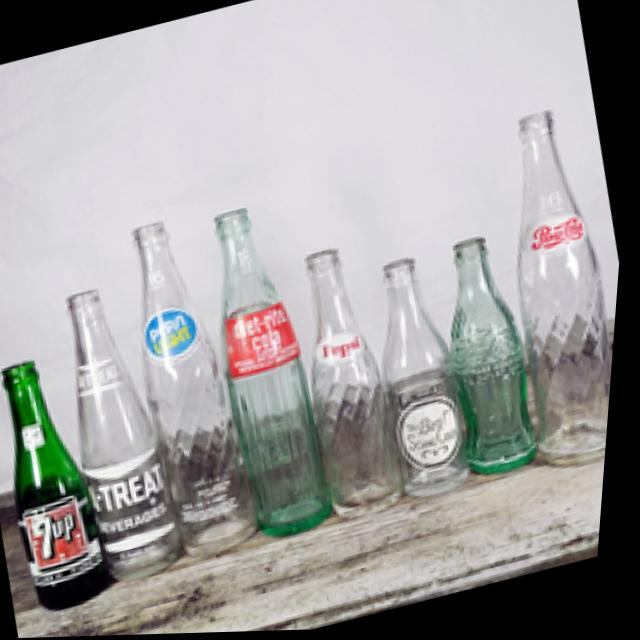glass_beverage_bottles: (103, 201, 283, 572), (187, 189, 367, 551), (476, 104, 633, 477), (45, 276, 202, 593), (350, 242, 496, 509), (425, 224, 568, 484), (282, 242, 417, 516), (0, 338, 129, 617)
